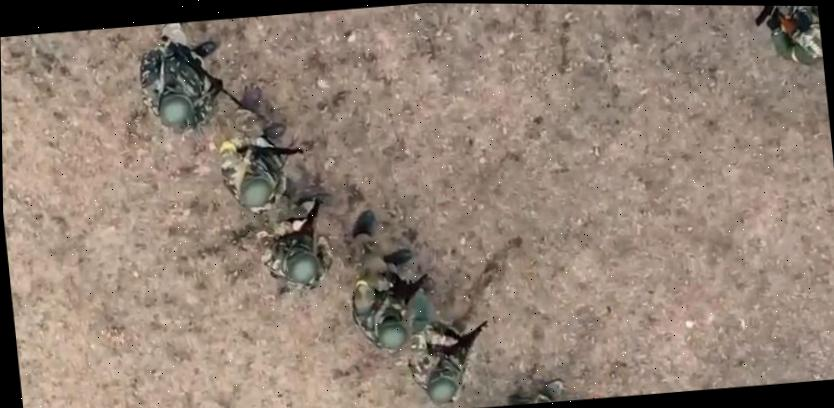person: (341, 205, 435, 353), (211, 81, 310, 216), (133, 16, 243, 135), (402, 305, 495, 407), (252, 193, 337, 294), (741, 5, 824, 78)
